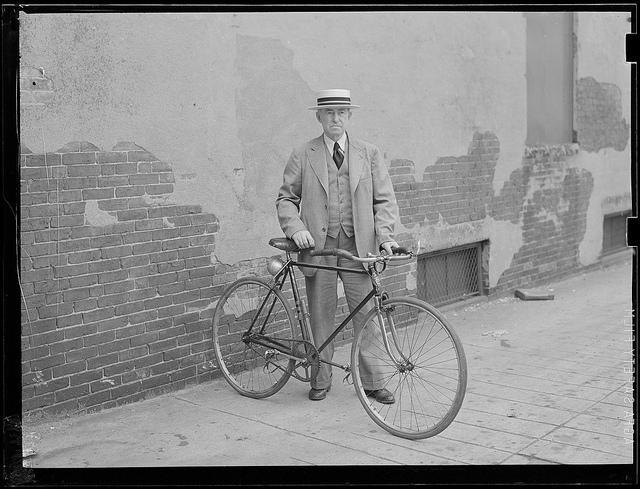bicycle: (212, 238, 470, 442)
